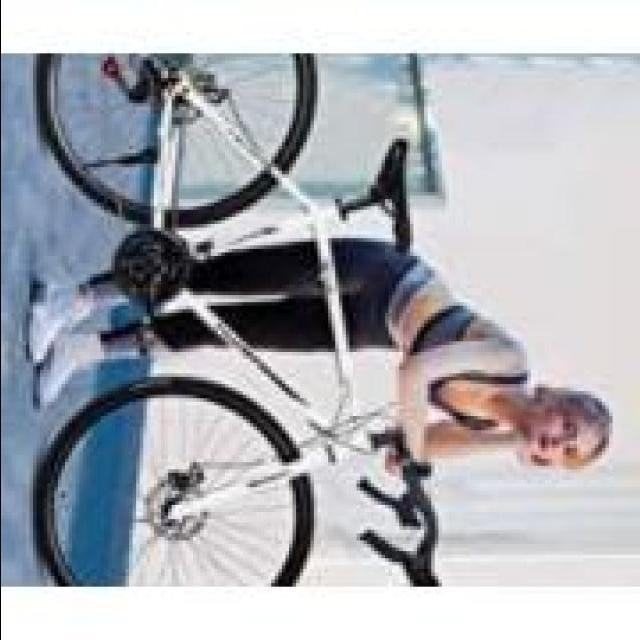bicycle: (22, 76, 442, 584)
